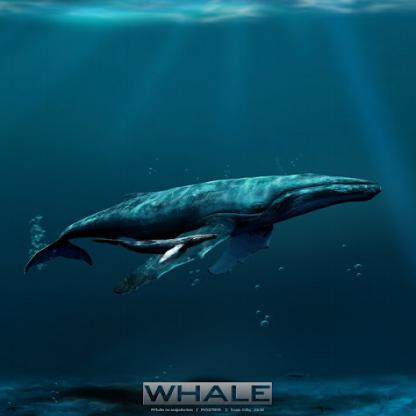blue_whale: (10, 172, 396, 332)
